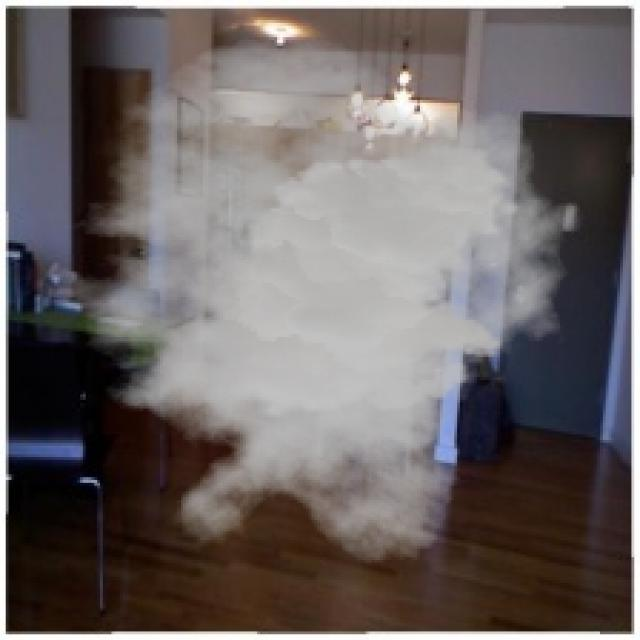smoke: (23, 37, 583, 566)
